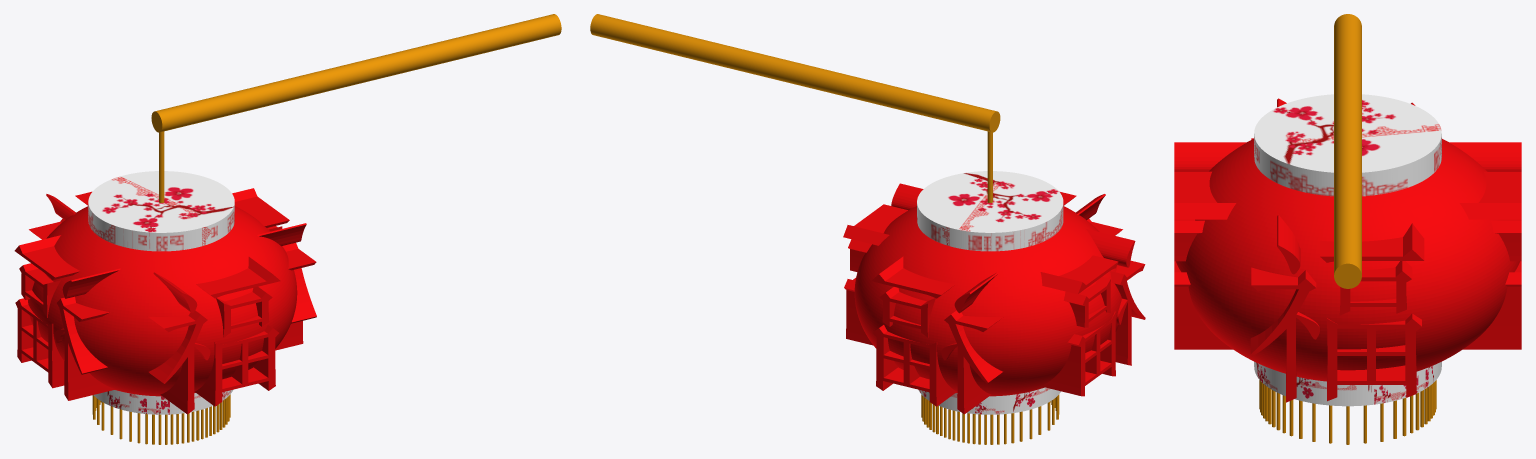
3 renders of one model, left to right at view 1: azimuth 30°, elevation 25°; view 2: azimuth 150°, elevation 25°; view 3: azimuth 270°, elevation 25°, orthographic. The views are drawn at different scales.
Visible parts, largest first — view 1: 未命名2(1).001, 未命名2(1).004, 未命名2(1), 未命名2(1).002, 未命名2(1).003; view 2: 未命名2(1).001, 未命名2(1).004, 未命名2(1), 未命名2(1).002, 未命名2(1).003; view 3: 未命名2(1).001, 未命名2(1).004, 未命名2(1), 未命名2(1).002, 未命名2(1).003.
Part boxes in pixels (bbox=[...]): 未命名2(1).001: bbox=[14, 188, 316, 414]; 未命名2(1).004: bbox=[88, 171, 234, 251]; 未命名2(1): bbox=[151, 14, 561, 202]; 未命名2(1).002: bbox=[92, 394, 230, 444]; 未命名2(1).003: bbox=[93, 390, 232, 414]; 未命名2(1).001: bbox=[843, 183, 1145, 414]; 未命名2(1).004: bbox=[917, 171, 1063, 251]; 未命名2(1): bbox=[590, 14, 1000, 202]; 未命名2(1).002: bbox=[921, 394, 1059, 444]; 未命名2(1).003: bbox=[918, 387, 1060, 414]; 未命名2(1).001: bbox=[1174, 98, 1521, 402]; 未命名2(1).004: bbox=[1254, 94, 1441, 196]; 未命名2(1): bbox=[1334, 14, 1361, 288]; 未命名2(1).002: bbox=[1259, 380, 1436, 444]; 未命名2(1).003: bbox=[1254, 361, 1441, 406].
Bounding box in the file's own units: 2180 × 1240 × 1000.
Materials: 4 (2 with a texture image).
